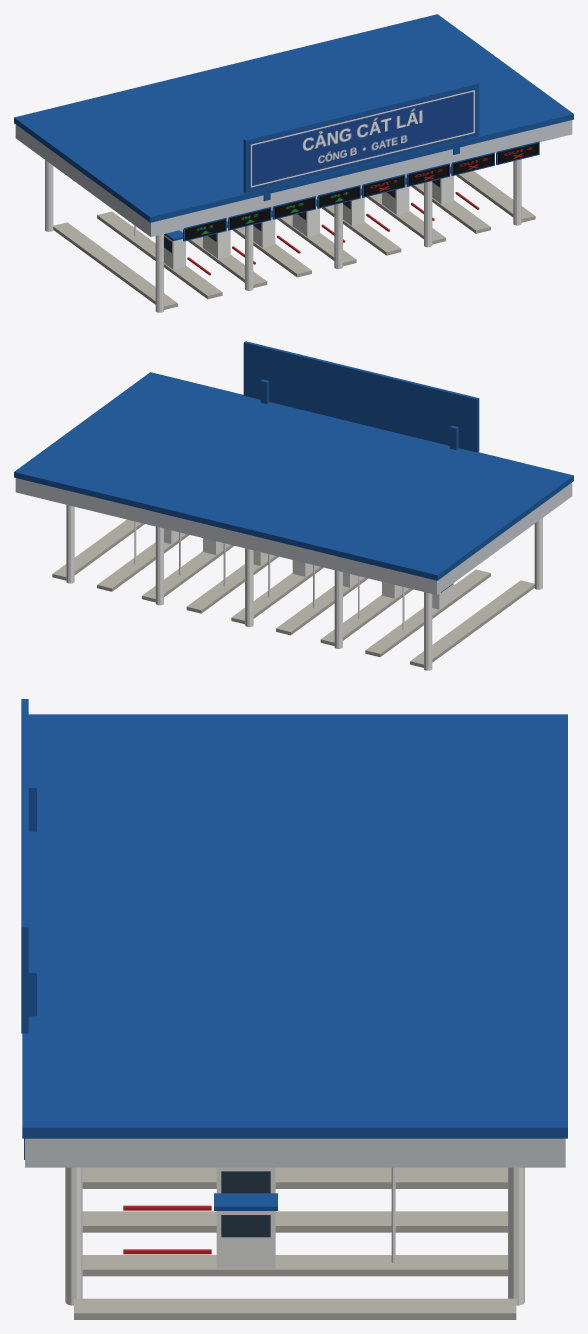
File: port_gate_b.glb
3 renders of one model, top to bottom at view 1: azimuth 30°, elevation 25°; view 2: azimuth 150°, elevation 25°; view 3: azimuth 270°, elevation 25°, orthographic. The views are drawn at different scales.
Visible parts, largest first — view 1: gate; view 2: gate; view 3: gate.
Part boxes in pixels (x1,y1,x2,y2): gate: [14, 14, 573, 312]; gate: [14, 341, 573, 670]; gate: [21, 699, 567, 1319].
Bounding box in the file's own units: 39.8 × 14.59 × 22.3.
9 materials, 1 textured.
